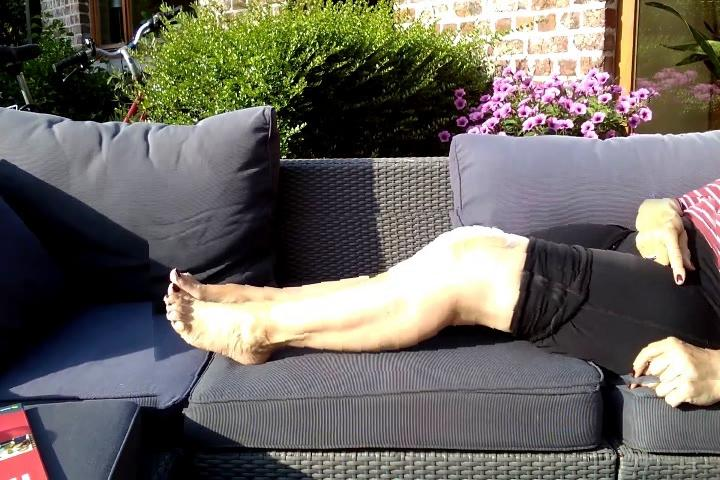lower_body: (151, 204, 720, 403)
